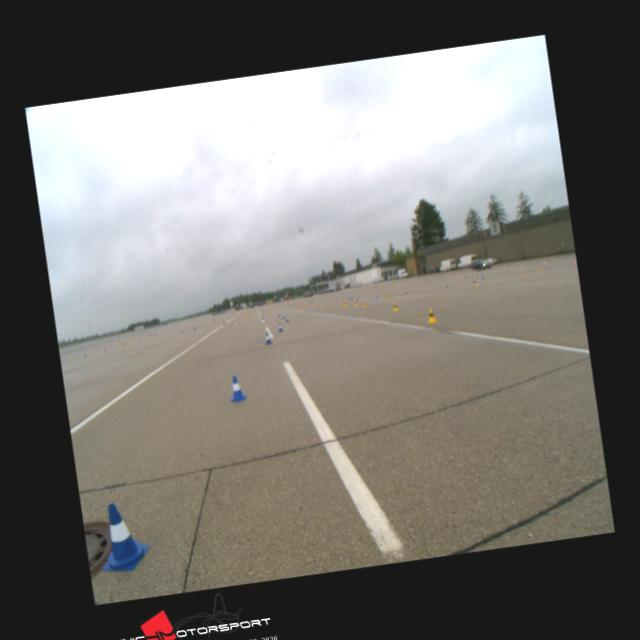blue_cone: (95, 500, 152, 574), (227, 375, 248, 403), (264, 332, 272, 344), (277, 322, 283, 332)
yellow_cone: (427, 308, 438, 323), (392, 301, 398, 312)
